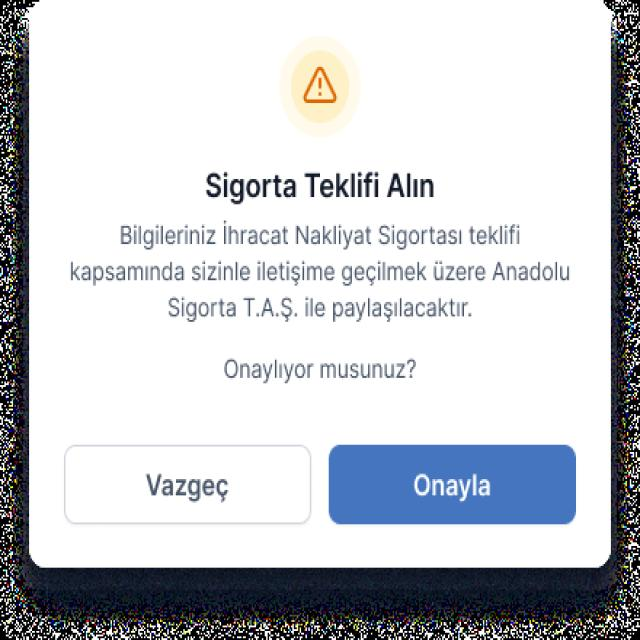QLabel: (67, 258, 575, 288), (113, 220, 528, 250), (166, 294, 477, 324), (202, 169, 436, 205), (221, 356, 416, 383), (144, 471, 232, 503), (412, 468, 492, 502)
VBtn: (326, 443, 576, 527), (64, 444, 314, 526)
VContainer: (0, 0, 640, 640)
VDialog: (27, 12, 616, 573)
VIcon: (279, 37, 361, 139)
